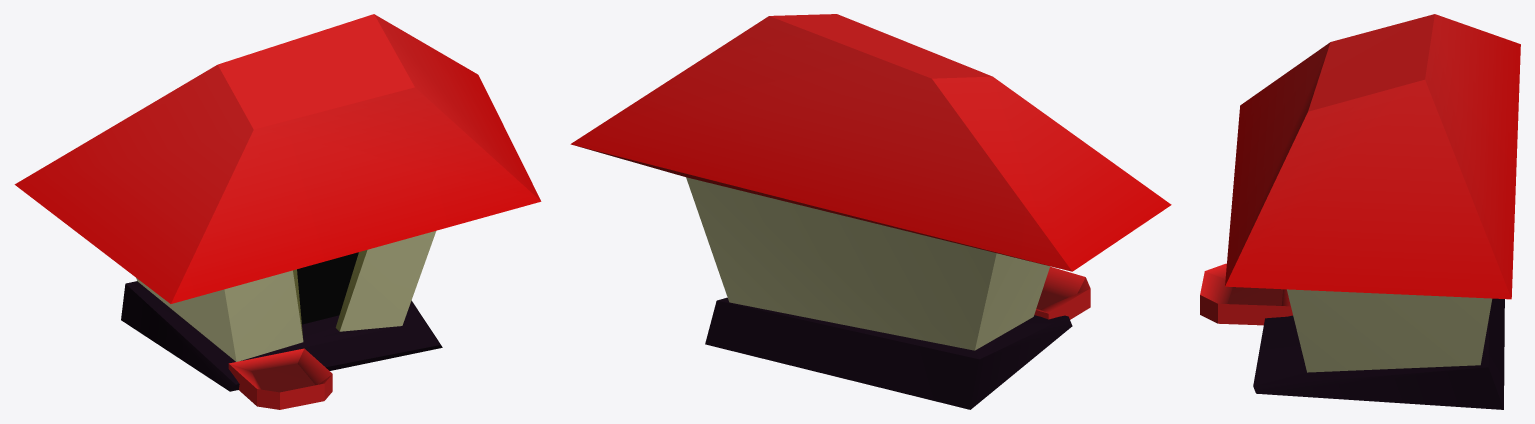
The model's file is c_deco_doghouse_aa.fbx.
The picture shows the model from 3 angles, left to right: view 1: azimuth 30°, elevation 25°; view 2: azimuth 150°, elevation 25°; view 3: azimuth 270°, elevation 25°; orthographic projection. The views are drawn at different scales.
Parts seen in each view (by area): view 1: c_deco_doghouse_aa; view 2: c_deco_doghouse_aa; view 3: c_deco_doghouse_aa.
Part boxes in pixels (x1,y1,x2,y2): c_deco_doghouse_aa: (14,14,541,409); c_deco_doghouse_aa: (570,14,1171,409); c_deco_doghouse_aa: (1200,14,1520,409).
Size of the model in its own units: 3.49 by 2.02 by 1.85.
